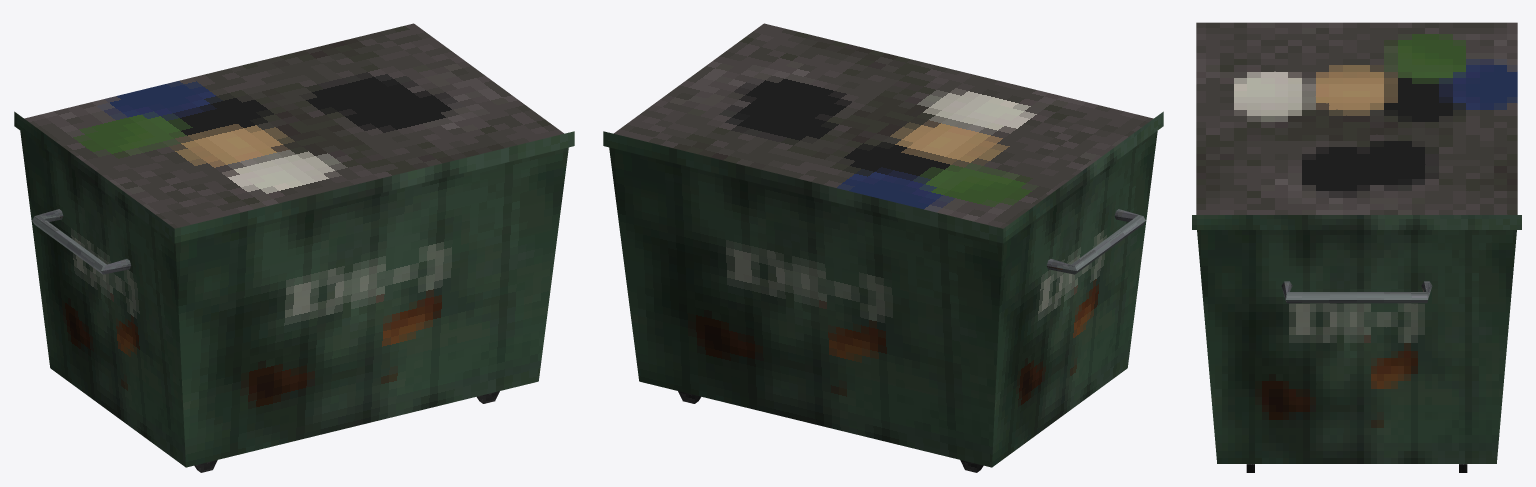
Rendered from bin_container.glb.
3 views of the same model, side by side, from view 1: azimuth 30°, elevation 25°; view 2: azimuth 150°, elevation 25°; view 3: azimuth 270°, elevation 25° (orthographic). The views are drawn at different scales.
Visible parts, largest first — view 1: bin_container; view 2: bin_container; view 3: bin_container.
Part boxes in pixels (x1,y1,x2,y2): bin_container: [14, 23, 574, 472]; bin_container: [603, 23, 1163, 472]; bin_container: [1192, 22, 1521, 472].
Bounding box in the file's own units: 1.94 × 1.12 × 1.18.
Materials: 1 (1 with a texture image).
